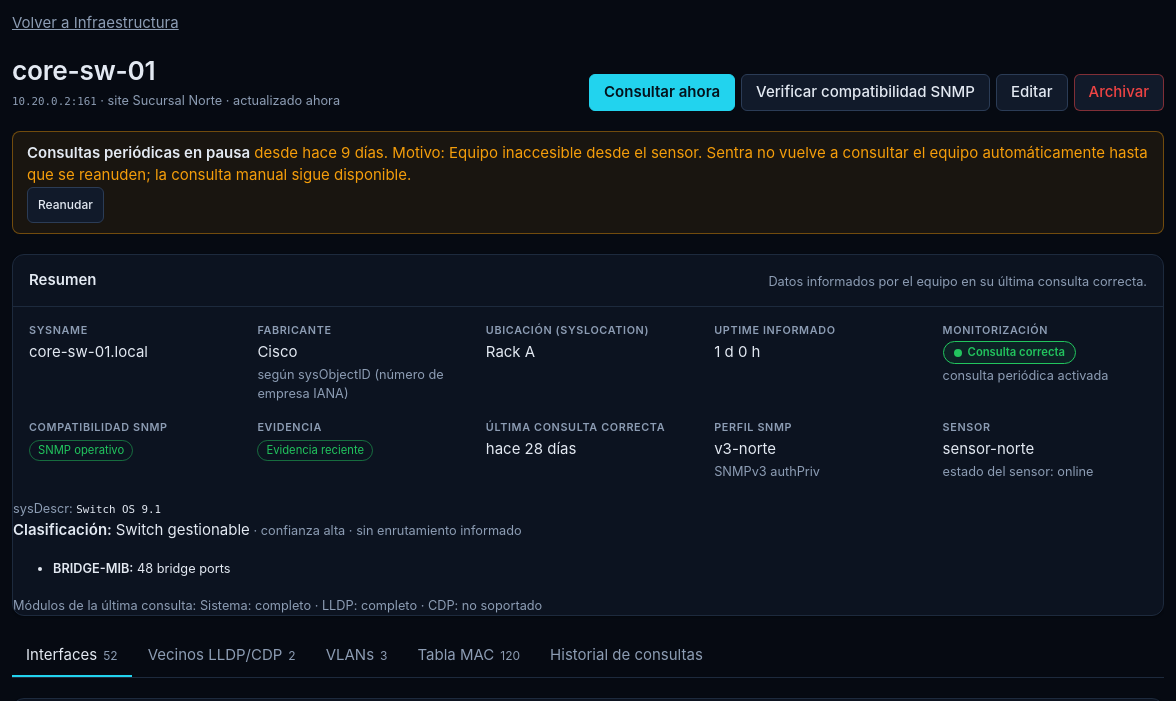
it: InfrastructureDevicePage › admin reanuda con la versión; un 409 avisa y recarga
Expected: the message "Consultas periódicas en pausa" shows "Equipo inaccesible desde el sensor", [449,143,698,162]
Click the button "Reanudar".
click(65, 205)  # box [27,187,104,223]
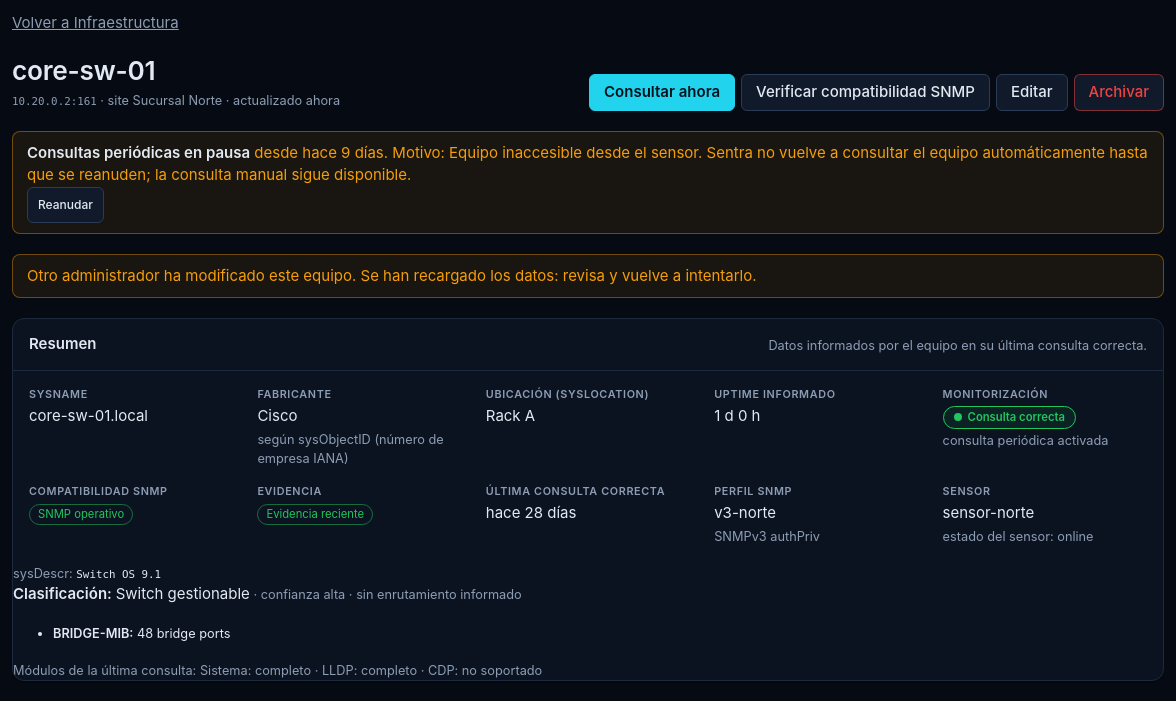
Expected: the text "Otro administrador ha modificado este equipo" is shown, [27,266,756,285]
